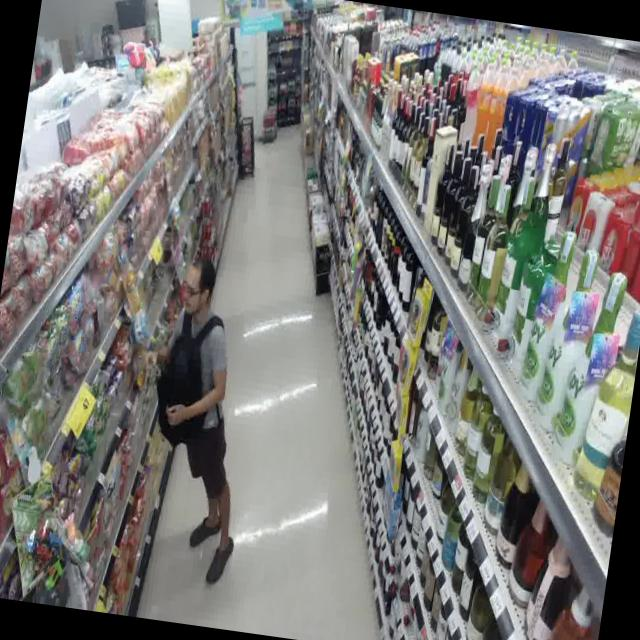pickup: (95, 228, 285, 594)
